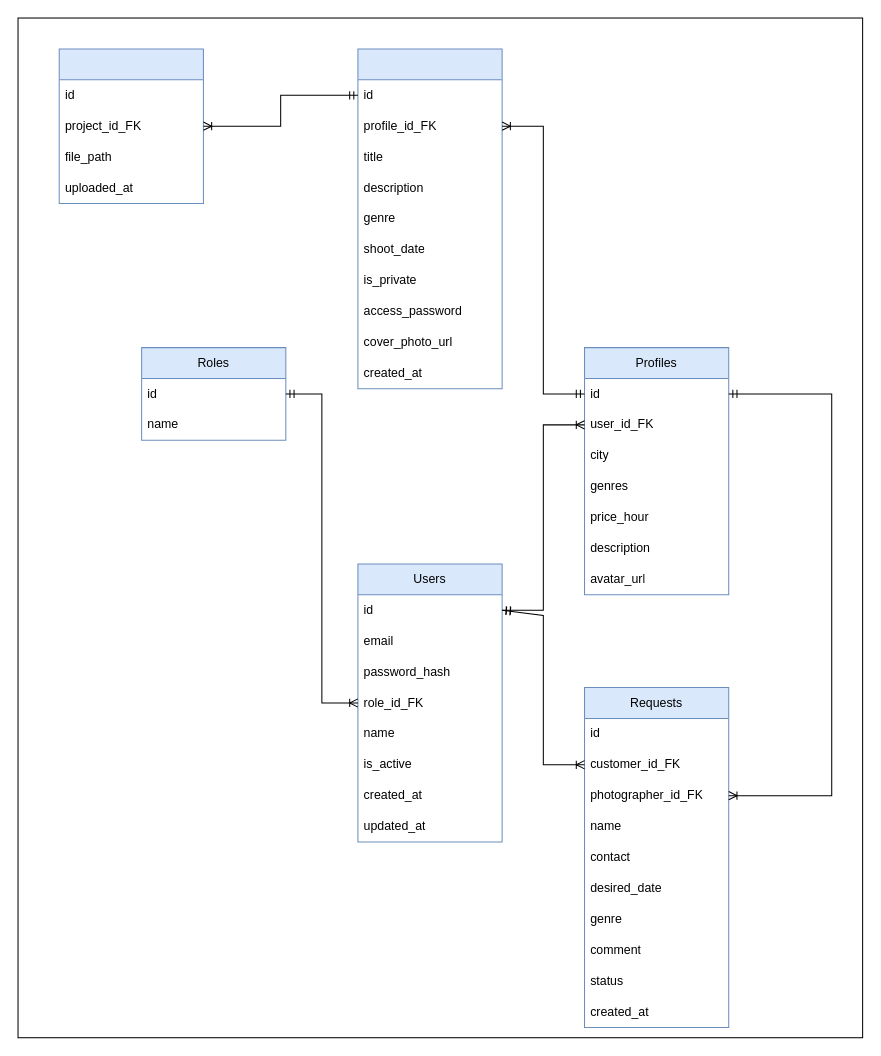
Image size: 881x1056. Some labels were removed from this diagram. Here are the shapes that lost their labels. From the top down, the box of each, then its label:
(58, 48, 203, 203): Photos
(357, 48, 502, 389): Projects
